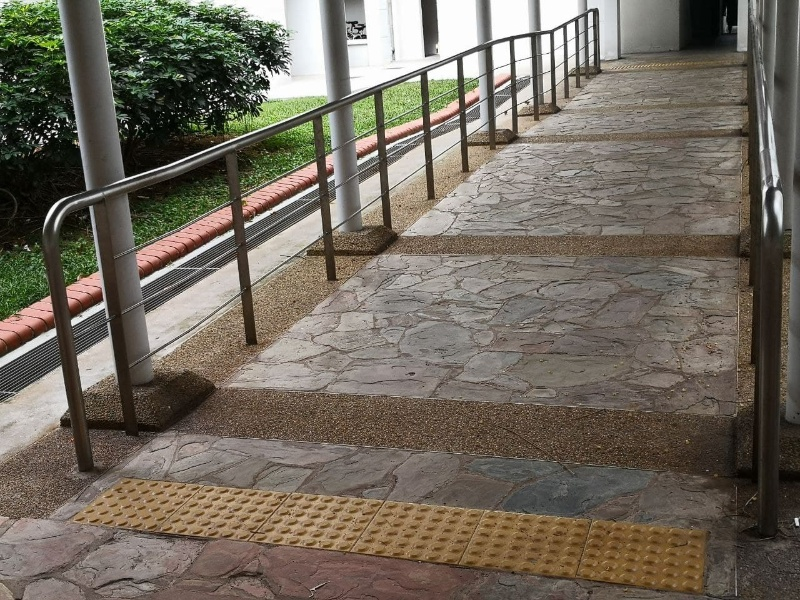slope: (153, 91, 746, 502)
